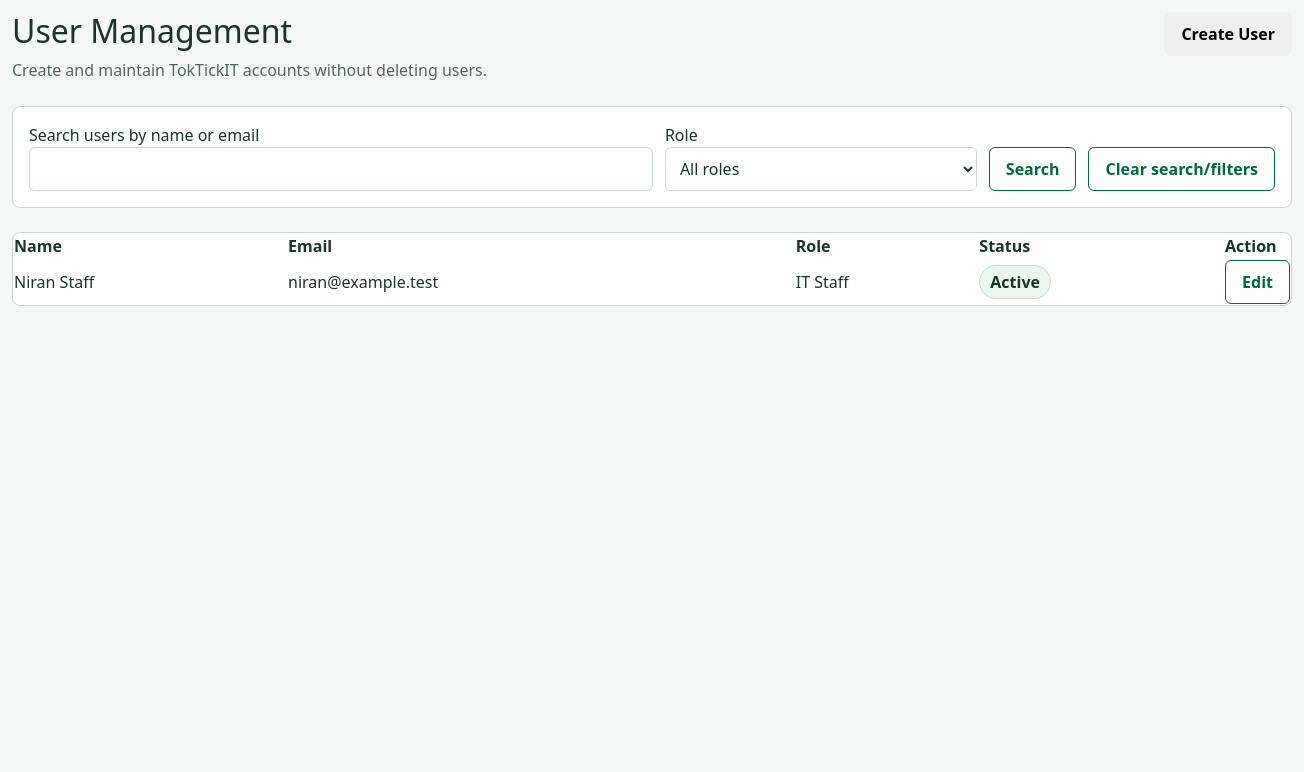
it: UI-06 Administrator User Management › shows safe conflict feedback without silently retrying a rejected account change
Check: the text "Niran Staff" is shown, box [13,259,287,305]
Click the button with aria-label "Edit Niran Staff" at {"x": 1258, "y": 282}, box [1225,260,1290,304]
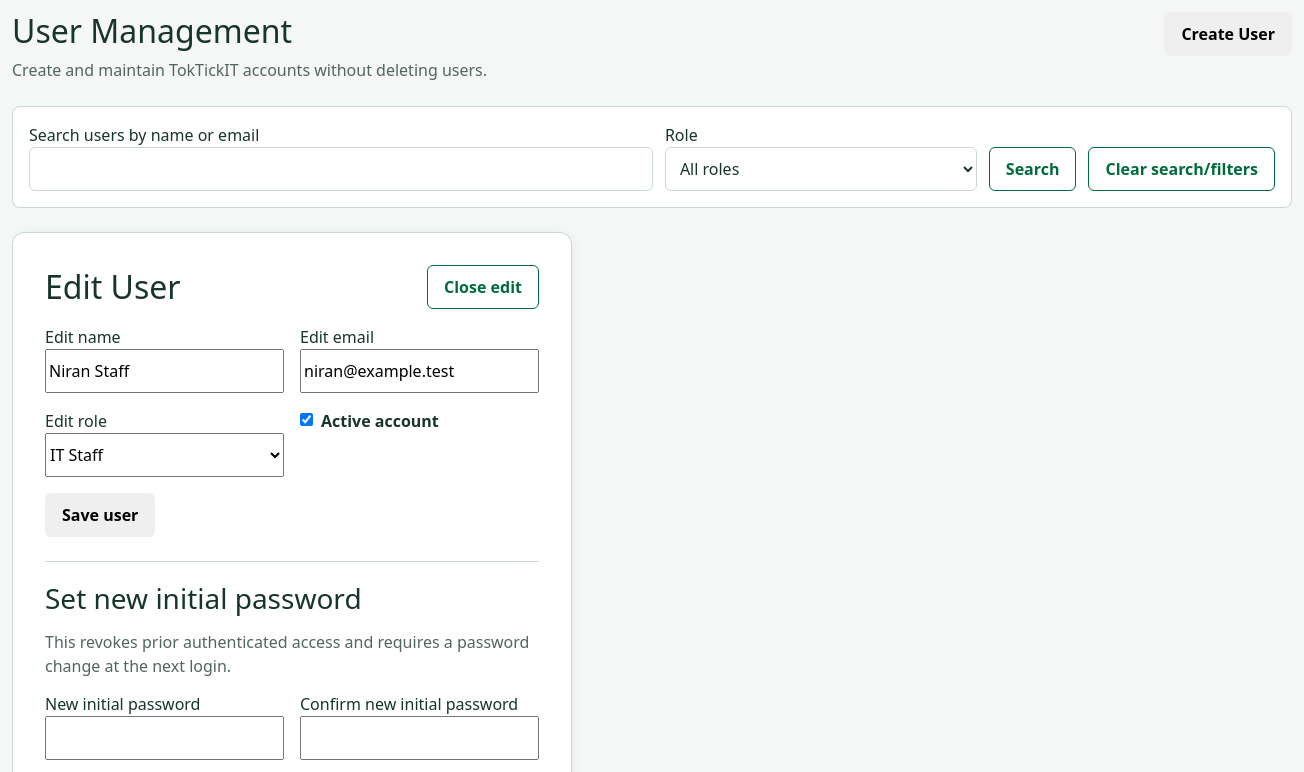
Click the checkbox labelled "Active account" at {"x": 306, "y": 420}, box [300,413,313,426]
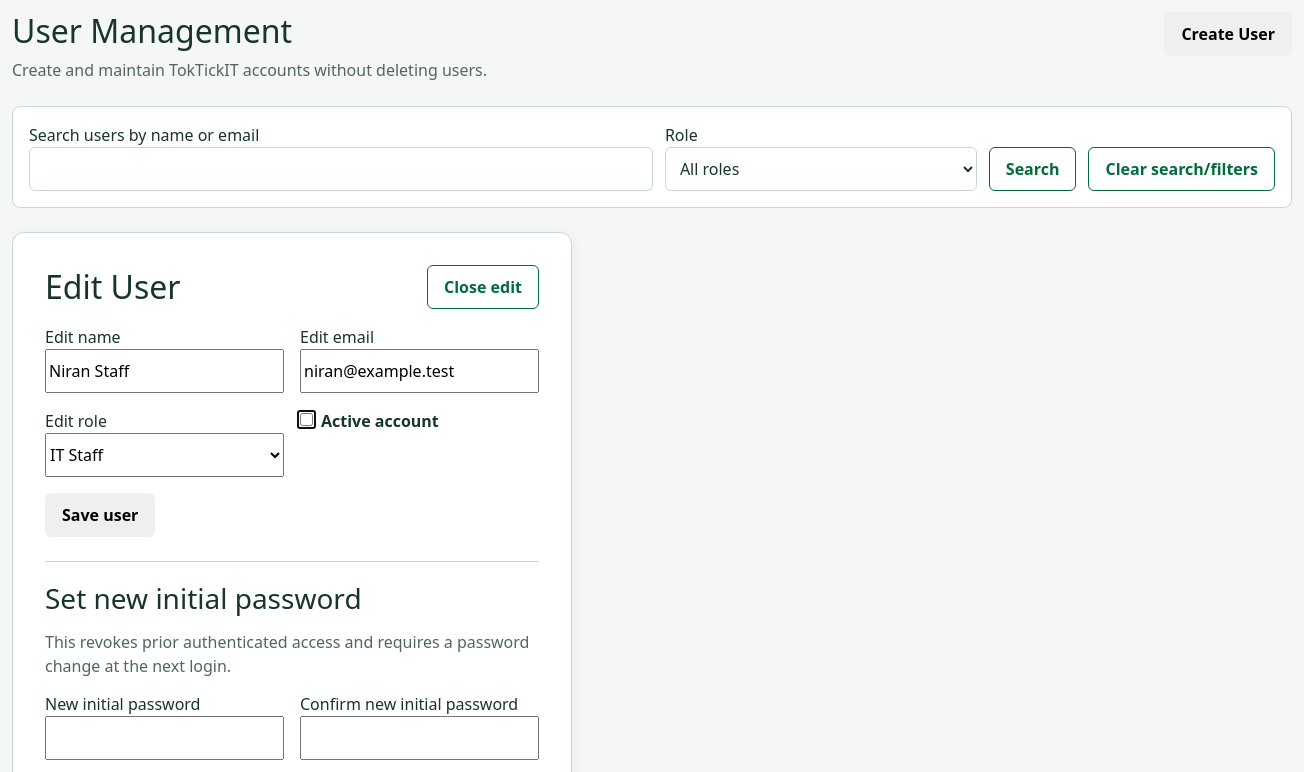
Click the button "Save user" at {"x": 100, "y": 515}, box [45,493,155,537]
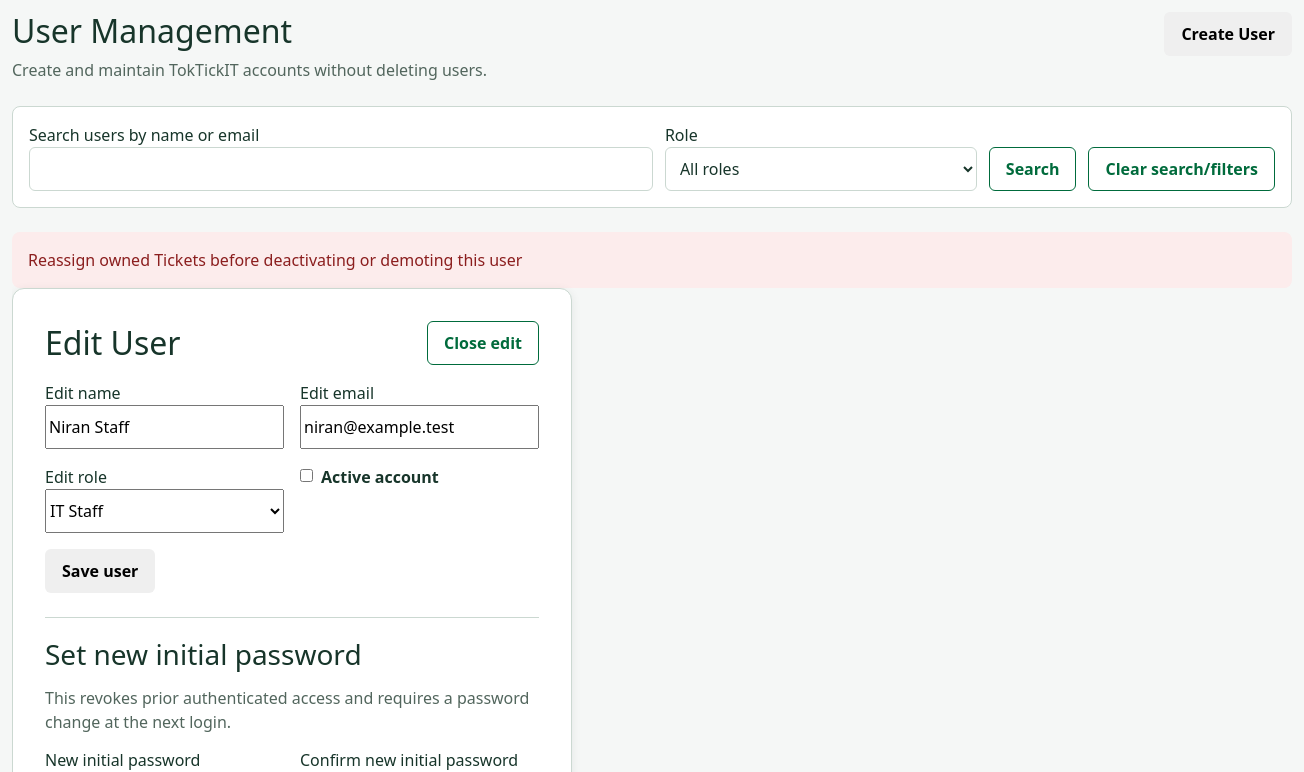
Check: the message reads "Reassign owned Tickets before deactivating or demoting this user", box [28,249,522,271]
